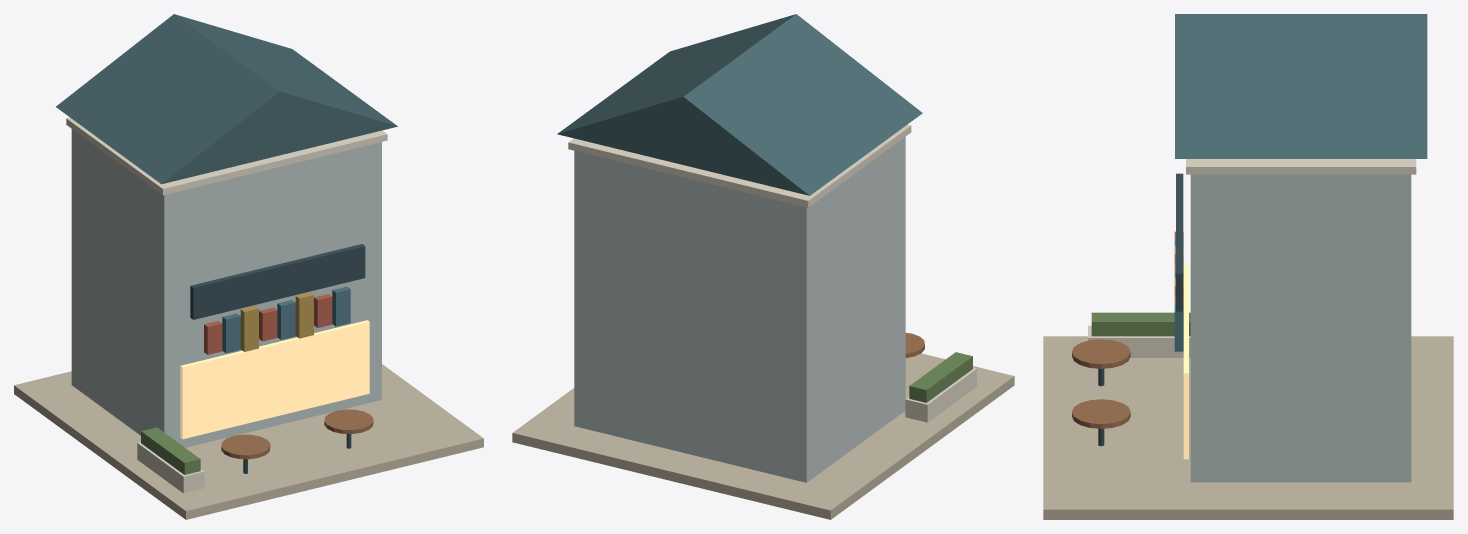
Rendered from bookshop_lod.glb.
The picture shows the model from 3 angles, left to right: view 1: azimuth 30°, elevation 25°; view 2: azimuth 150°, elevation 25°; view 3: azimuth 270°, elevation 25°; orthographic projection. The views are drawn at different scales.
Parts seen in each view (by area): view 1: bookshop_Building_Volume, bookshop_Gable_Roof, bookshop_Site_Paving, bookshop_Storefront, bookshop_Sign_Backplate, bookshop_Roof_Coping, bookshop_Hedge, bookshop_Raised_Planter, bookshop_Cafe_Table, bookshop_Cafe_Table.001, bookshop_Book_Spine.005, bookshop_Book_Spine.002 (+6 smaller); view 2: bookshop_Building_Volume, bookshop_Gable_Roof, bookshop_Site_Paving, bookshop_Roof_Coping, bookshop_Hedge, bookshop_Raised_Planter; view 3: bookshop_Building_Volume, bookshop_Site_Paving, bookshop_Gable_Roof, bookshop_Roof_Coping, bookshop_Hedge, bookshop_Cafe_Table, bookshop_Cafe_Table.001, bookshop_Raised_Planter, bookshop_Storefront, bookshop_Sign_Backplate.
Part boxes in pixels (x1=…): bookshop_Building_Volume: x1=71, y1=129, x2=381, y2=447; bookshop_Gable_Roof: x1=56, y1=14, x2=397, y2=184; bookshop_Site_Paving: x1=14, y1=364, x2=483, y2=519; bookshop_Storefront: x1=180, y1=320, x2=369, y2=439; bookshop_Sign_Backplate: x1=190, y1=244, x2=365, y2=319; bookshop_Roof_Coping: x1=66, y1=117, x2=387, y2=195; bookshop_Hedge: x1=141, y1=427, x2=200, y2=474; bookshop_Raised_Planter: x1=137, y1=442, x2=204, y2=493; bookshop_Cafe_Table: x1=221, y1=434, x2=270, y2=459; bookshop_Cafe_Table.001: x1=324, y1=409, x2=373, y2=433; bookshop_Book_Spine.005: x1=295, y1=292, x2=313, y2=338; bookshop_Book_Spine.002: x1=240, y1=306, x2=258, y2=351; bookshop_Building_Volume: x1=574, y1=137, x2=905, y2=482; bookshop_Gable_Roof: x1=557, y1=14, x2=922, y2=195; bookshop_Site_Paving: x1=512, y1=353, x2=1014, y2=519; bookshop_Roof_Coping: x1=568, y1=124, x2=911, y2=207; bookshop_Hedge: x1=909, y1=352, x2=972, y2=402; bookshop_Raised_Planter: x1=905, y1=367, x2=976, y2=422; bookshop_Building_Volume: x1=1190, y1=174, x2=1411, y2=482; bookshop_Site_Paving: x1=1043, y1=336, x2=1453, y2=519; bookshop_Gable_Roof: x1=1175, y1=14, x2=1427, y2=158; bookshop_Roof_Coping: x1=1186, y1=159, x2=1416, y2=174; bookshop_Hedge: x1=1091, y1=312, x2=1190, y2=336; bookshop_Cafe_Table: x1=1072, y1=339, x2=1130, y2=368; bookshop_Cafe_Table.001: x1=1072, y1=399, x2=1130, y2=428; bookshop_Raised_Planter: x1=1088, y1=325, x2=1190, y2=357; bookshop_Storefront: x1=1183, y1=264, x2=1188, y2=459; bookshop_Sign_Backplate: x1=1176, y1=173, x2=1183, y2=311.
Bounding box in the file's own units: 7.8 × 8.8 × 7.8.
